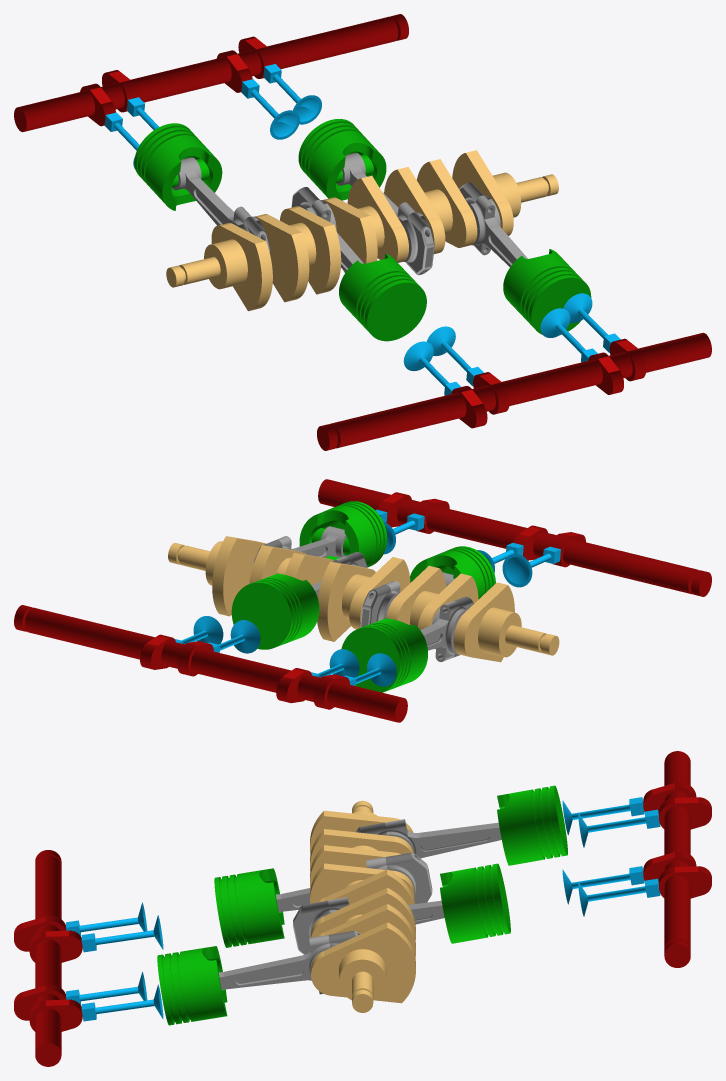
File: Moteur_flat.glb
3 views of the same model, one above another, from view 1: azimuth 30°, elevation 25°; view 2: azimuth 150°, elevation 25°; view 3: azimuth 270°, elevation 25° (orthographic). The views are drawn at different scales.
Parts seen in each view (by area): view 1: Shape (×26); view 2: Shape (×39); view 3: Shape (×37).
Part boxes in pixels (x1=…): Shape (×26): x1=21, y1=16, x2=711, y2=446; Shape (×39): x1=25, y1=479, x2=696, y2=722; Shape (×37): x1=14, y1=789, x2=711, y2=1066.
Bounding box in the file's own units: 0.696 × 0.2229 × 1.06.
